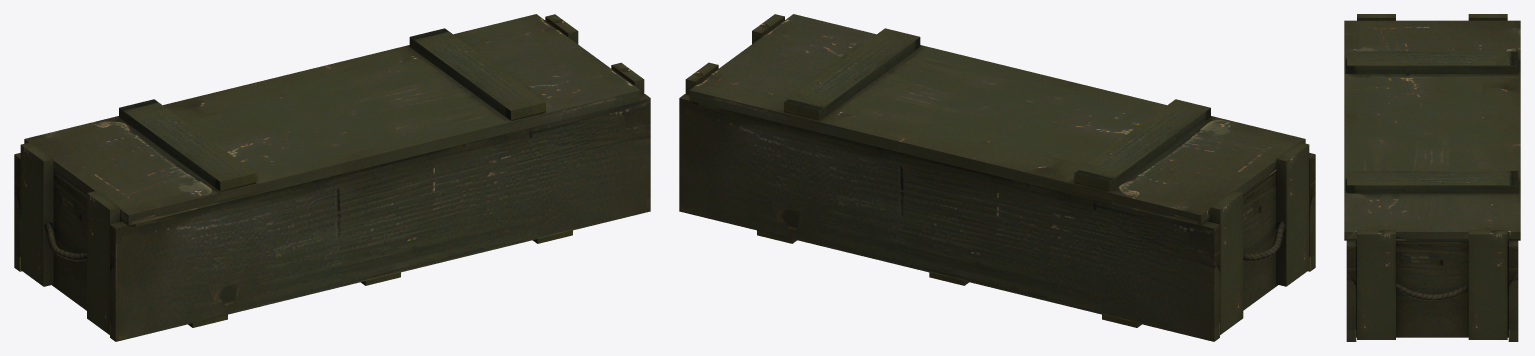
The model's file is longmilitary.fbx.
3 renders of one model, left to right at view 1: azimuth 30°, elevation 25°; view 2: azimuth 150°, elevation 25°; view 3: azimuth 270°, elevation 25°, orthographic. The views are drawn at different scales.
Visible parts, largest first — view 1: supply_crate02_reference; view 2: supply_crate02_reference; view 3: supply_crate02_reference.
Part boxes in pixels (x1,y1,x2,y2): supply_crate02_reference: (14,14,650,341); supply_crate02_reference: (679,14,1315,341); supply_crate02_reference: (1344,14,1520,341).
Bounding box in the file's own units: 5330 × 1281 × 1734.
